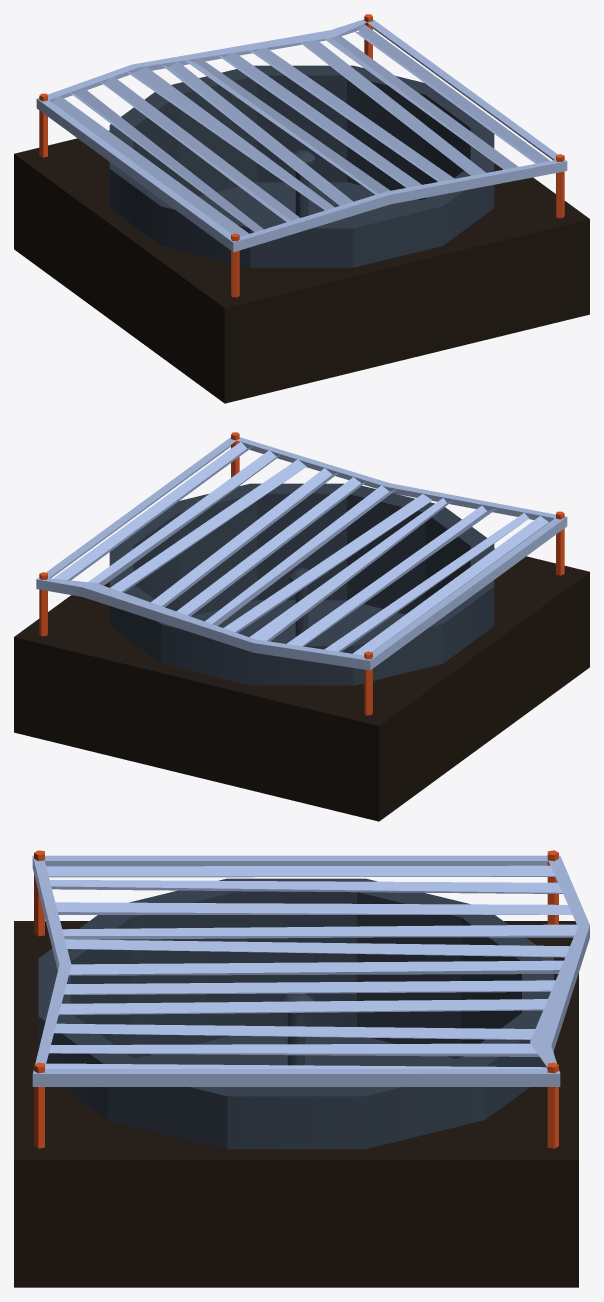
The model's file is Ventilator (1).fbx.
3 views of the same model, one above another, from view 1: azimuth 30°, elevation 25°; view 2: azimuth 150°, elevation 25°; view 3: azimuth 270°, elevation 25° (orthographic). The views are drawn at different scales.
Parts seen in each view (by area): view 1: Case, Cylinder, grid, Gridcase, rod; view 2: Case, Cylinder, grid, Gridcase, rod; view 3: Case, Cylinder, grid, Gridcase, rod.
Boxes of the visible parts, x1,y1,x2,y2 form: Case: (14, 130, 589, 403); Cylinder: (109, 65, 494, 267); grid: (52, 24, 550, 236); Gridcase: (36, 19, 567, 252); rod: (39, 14, 564, 297); Case: (14, 548, 589, 821); Cylinder: (109, 483, 494, 685); grid: (53, 442, 550, 655); Gridcase: (36, 437, 567, 670); rod: (39, 432, 564, 715); Case: (14, 921, 578, 1287); Cylinder: (38, 878, 553, 1149); grid: (45, 865, 577, 1068); Gridcase: (32, 855, 589, 1086); rod: (34, 850, 558, 1148).
Bounding box in the file's own units: 400 × 164 × 408.
